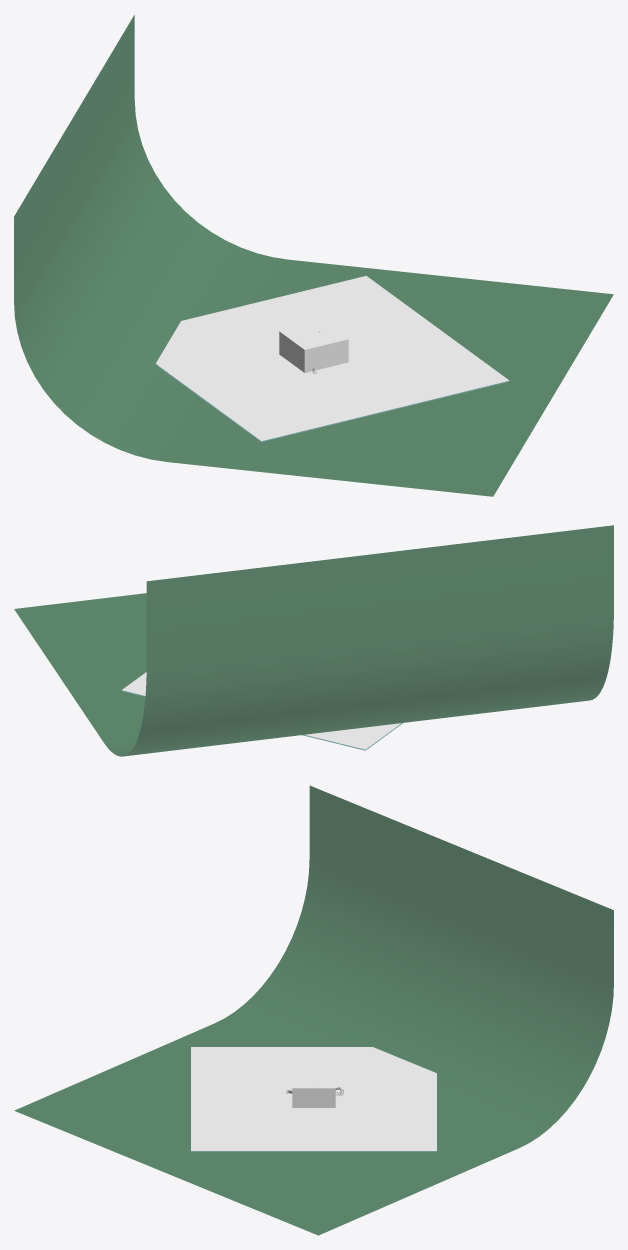
3 renders of one model, top to bottom at view 1: azimuth 30°, elevation 25°; view 2: azimuth 150°, elevation 25°; view 3: azimuth 270°, elevation 25°, orthographic. The views are drawn at different scales.
Parts seen in each view (by area): view 1: Floor.002, Floor.001, 立方体; view 2: Floor.002, Floor.001; view 3: Floor.002, Floor.001, 立方体.
Boxes of the visible parts, x1=… form: Floor.002: x1=14, y1=15, x2=613, y2=496; Floor.001: x1=155, y1=276, x2=509, y2=441; 立方体: x1=279, y1=321, x2=348, y2=372; Floor.002: x1=14, y1=525, x2=613, y2=756; Floor.001: x1=122, y1=672, x2=401, y2=749; Floor.002: x1=14, y1=785, x2=613, y2=1235; Floor.001: x1=191, y1=1047, x2=436, y2=1150; 立方体: x1=292, y1=1070, x2=335, y2=1107.
Bounding box in the file's own units: 27.65 × 10.49 × 27.65.
